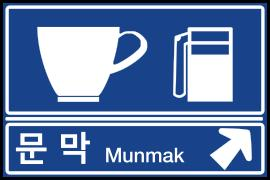Petrol Pump- Gas Station: (156, 11, 242, 106)
